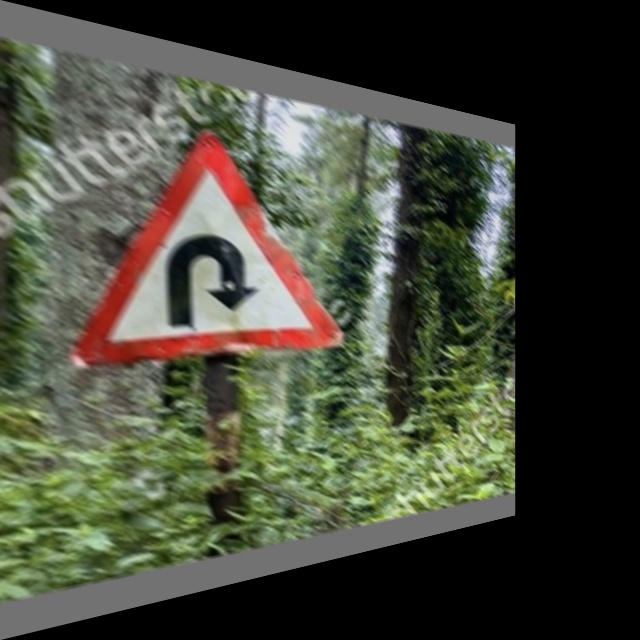Right_Hair_Pin_Bend: (74, 107, 342, 352)
